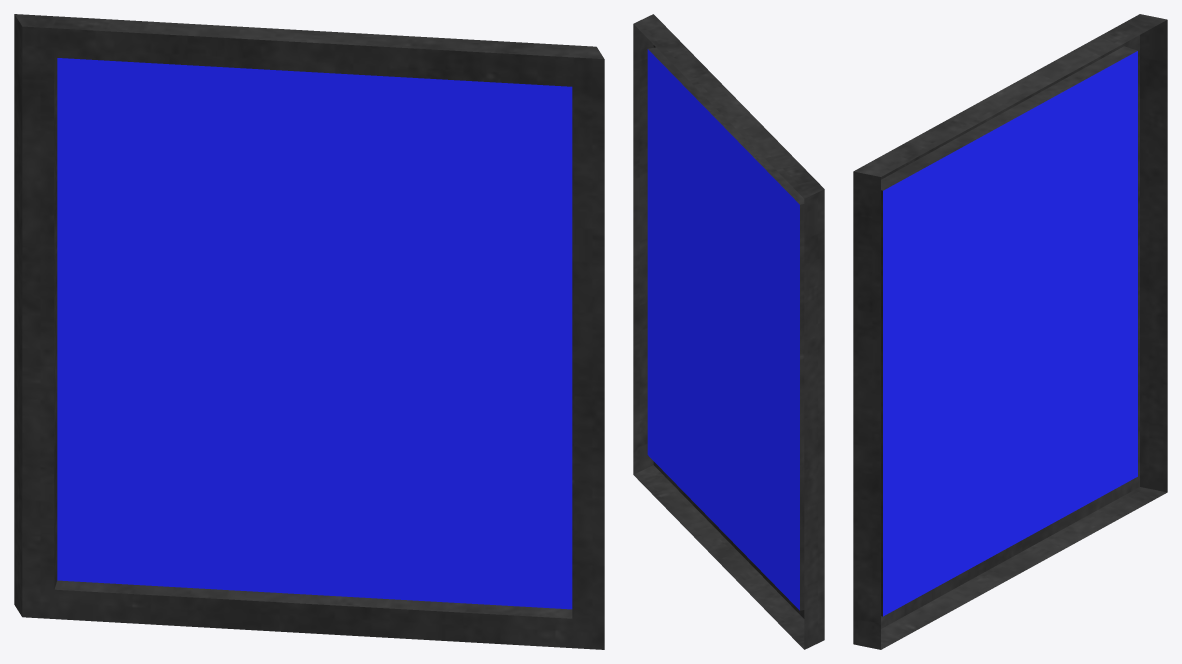
The model's file is TriviaBoards.glb.
The picture shows the model from 3 angles, left to right: view 1: azimuth 30°, elevation 25°; view 2: azimuth 150°, elevation 25°; view 3: azimuth 270°, elevation 25°; orthographic projection. The views are drawn at different scales.
Parts seen in each view (by area): view 1: Main Building.004; view 2: Main Building.004; view 3: Main Building.004.
Boxes of the visible parts, x1,y1,x2,y2 form: Main Building.004: (14,14,604,649); Main Building.004: (633,14,824,649); Main Building.004: (853,14,1167,649).
Size of what is drawn, in the model's own units: 1.33 by 1.83 by 1.1.
2 materials, 1 textured.
